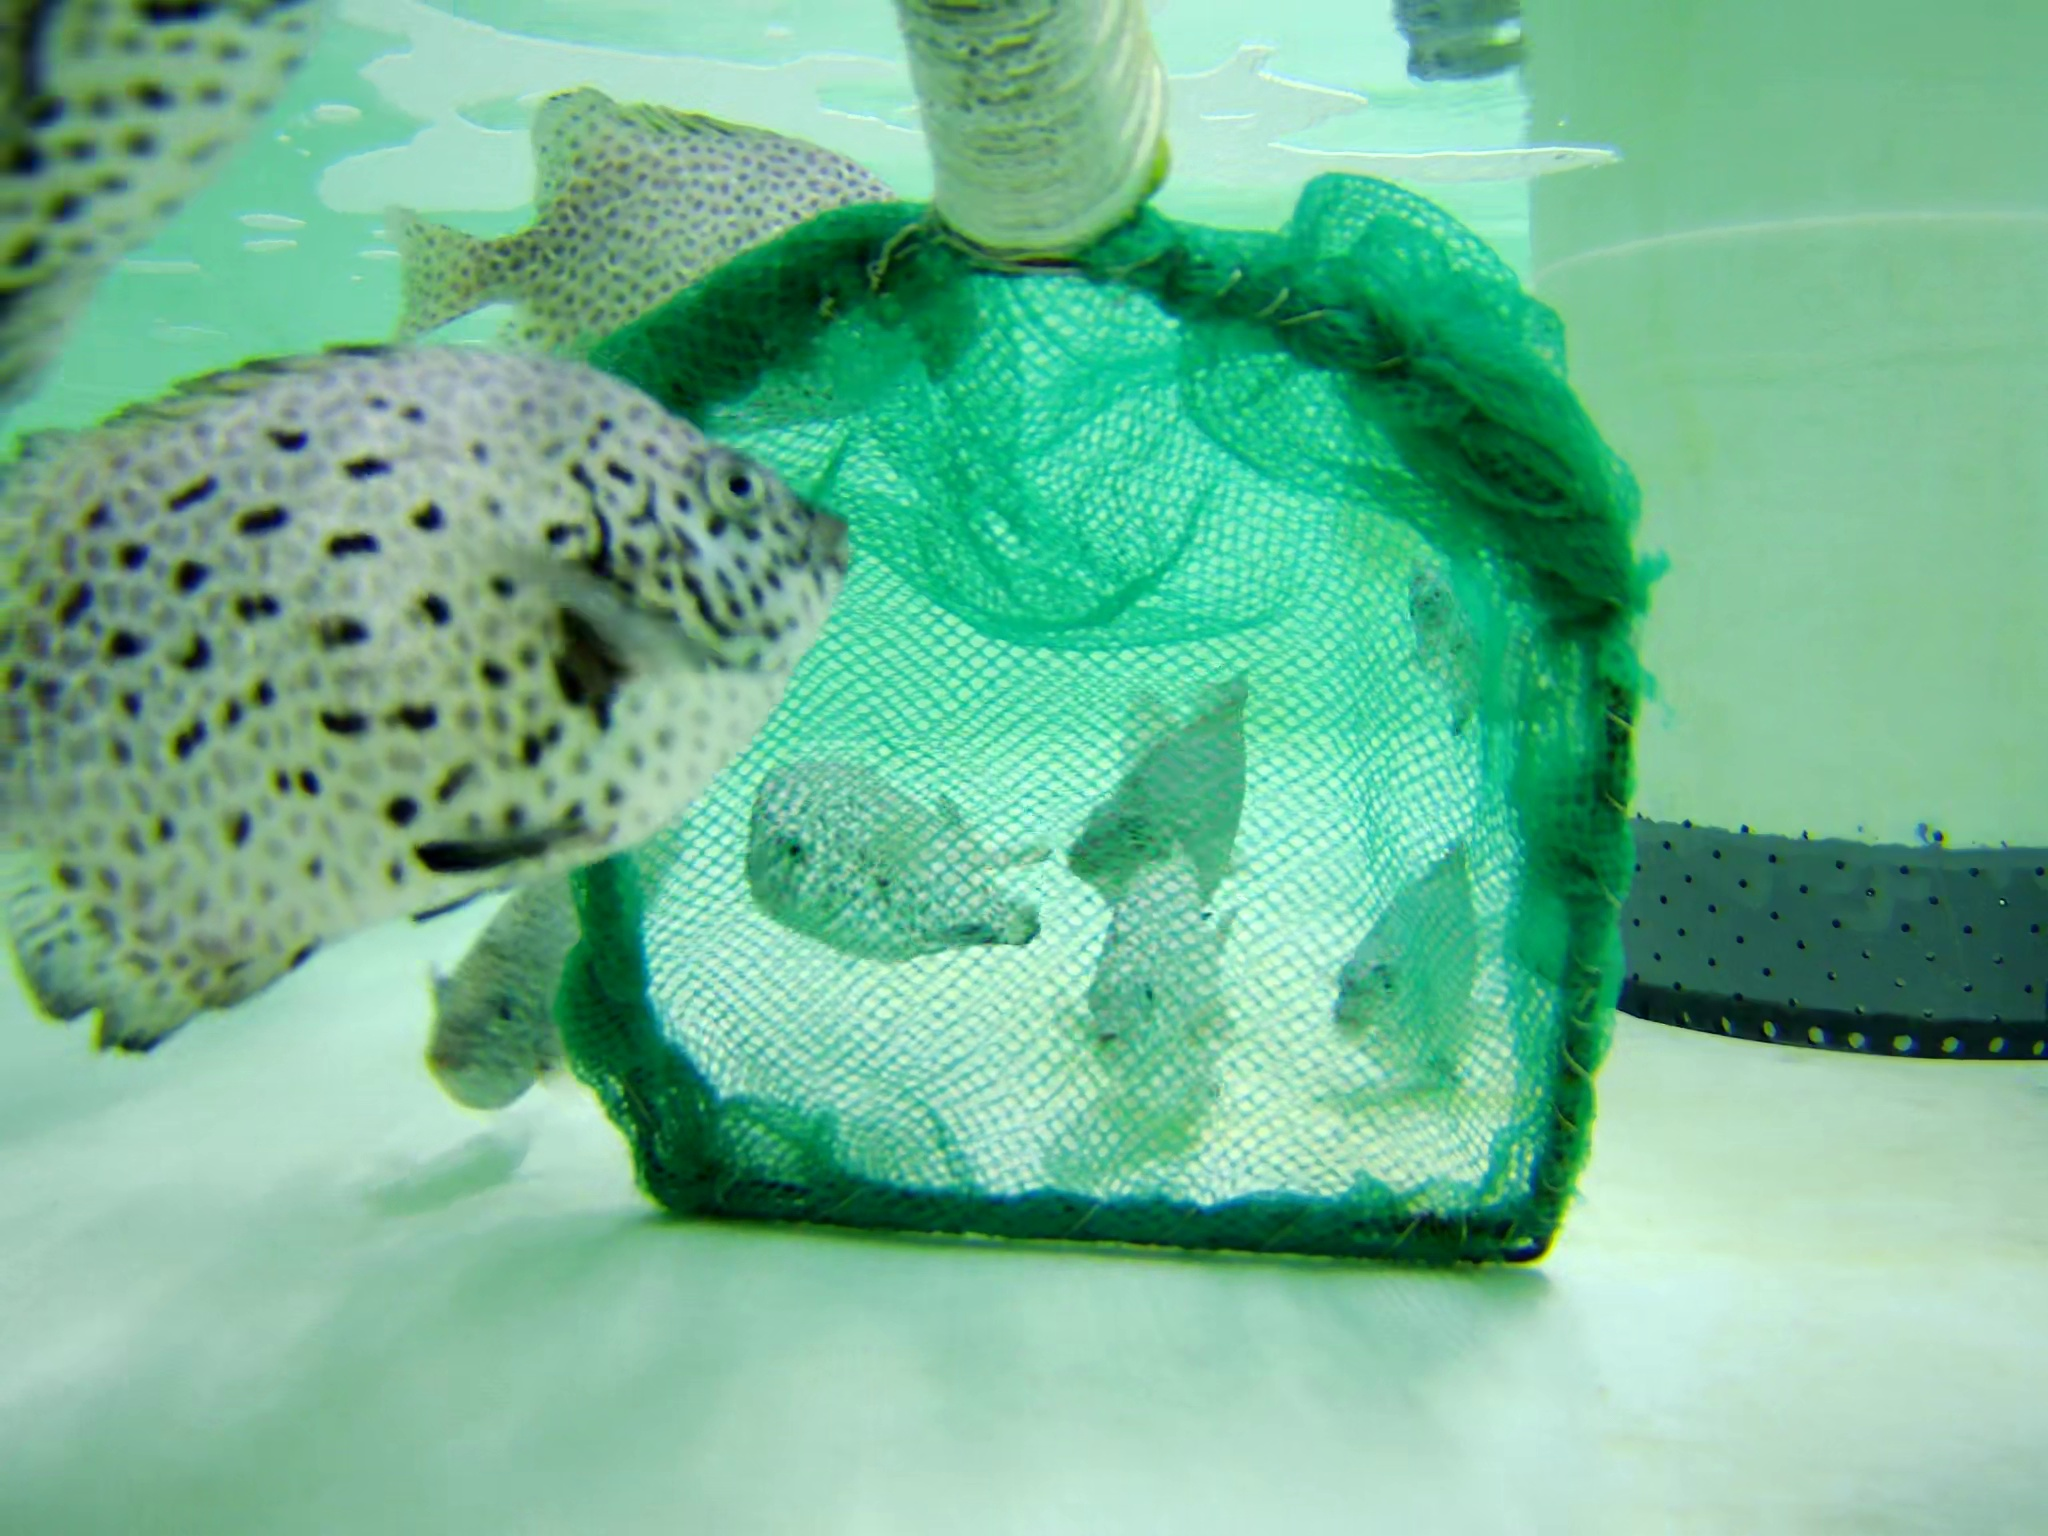fish: (27, 331, 858, 1060), (382, 76, 980, 449), (2, 2, 355, 436), (408, 807, 721, 1128), (737, 742, 1063, 975), (1076, 842, 1276, 1139), (1063, 673, 1276, 921), (1342, 841, 1521, 1129), (1401, 539, 1511, 729)
